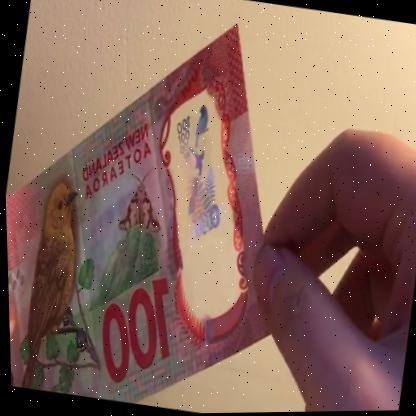100B: (152, 96, 241, 275)
